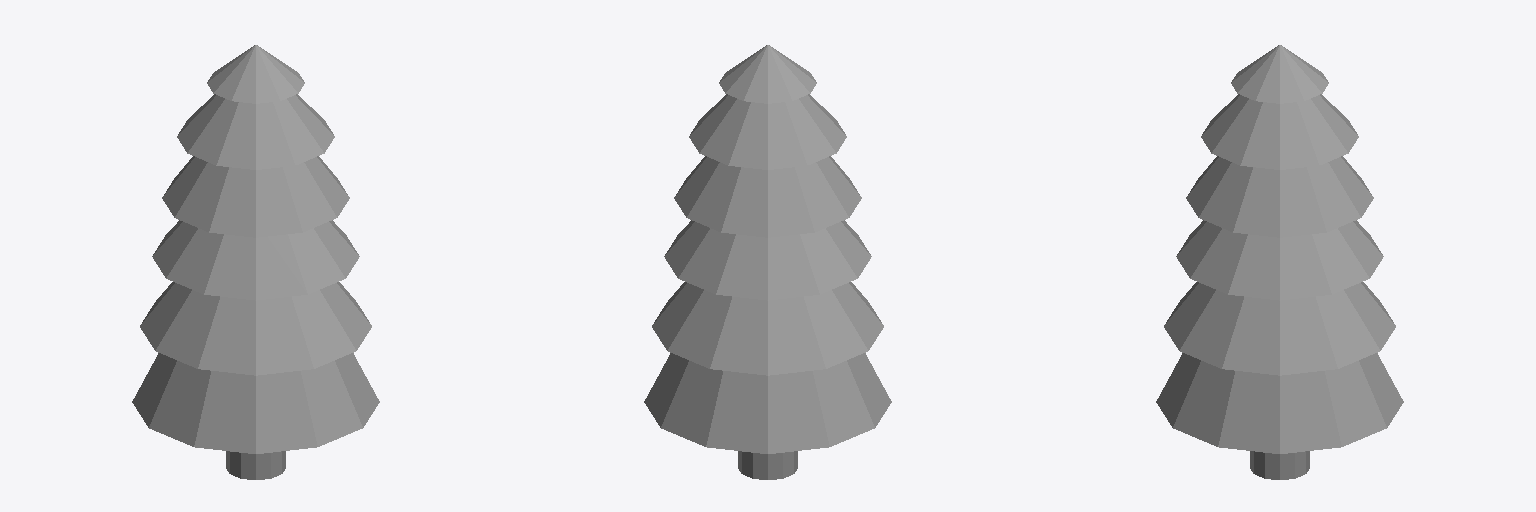
The model's file is tree.obj.
3 views of the same model, side by side, from view 1: azimuth 30°, elevation 25°; view 2: azimuth 150°, elevation 25°; view 3: azimuth 270°, elevation 25° (orthographic).
Parts seen in each view (by area): view 1: Object.1; view 2: Object.1; view 3: Object.1.
Part boxes in pixels (bbox=[...]): Object.1: bbox=[132, 45, 379, 479]; Object.1: bbox=[644, 45, 891, 479]; Object.1: bbox=[1156, 45, 1403, 479].
Size of the model in its own units: 3.28 by 6.19 by 3.28.